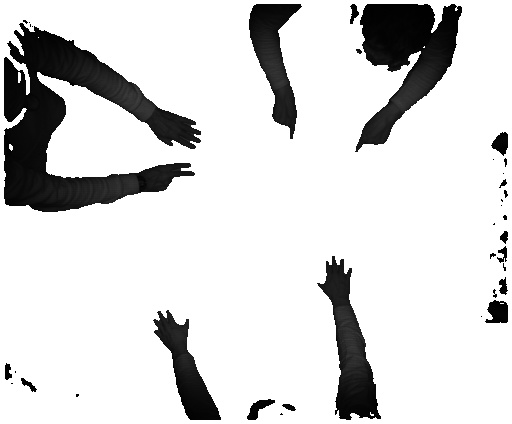hand: (152, 103, 204, 151), (312, 256, 359, 306), (142, 160, 199, 198), (152, 304, 195, 354), (352, 112, 396, 151), (272, 97, 303, 143)
